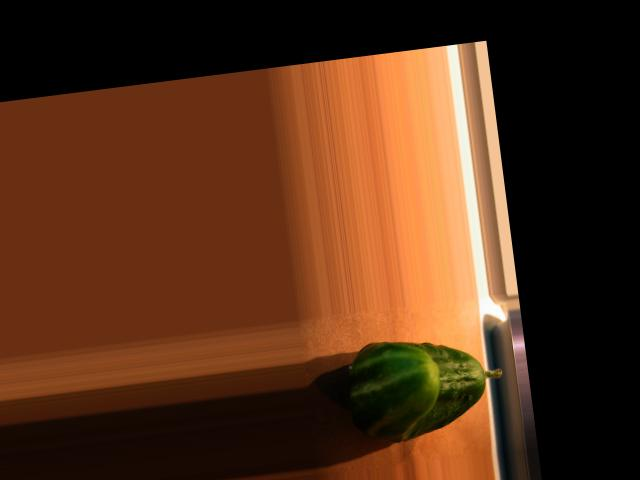cucumber: (342, 326, 509, 446)
